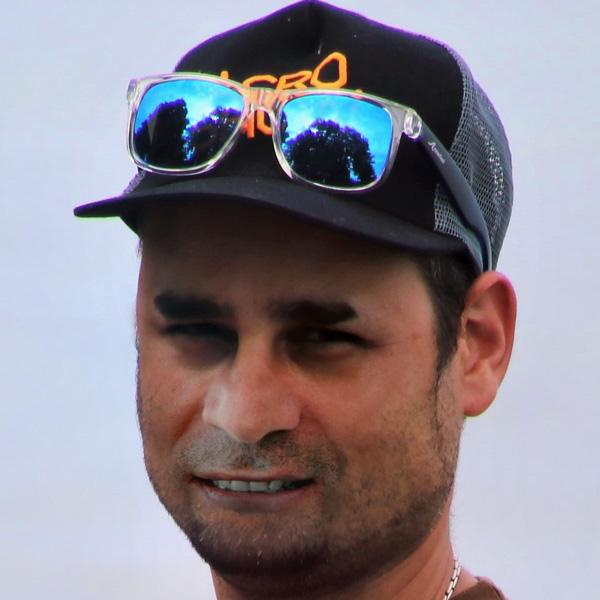Eyes: (275, 315, 385, 365), (154, 309, 241, 364)
